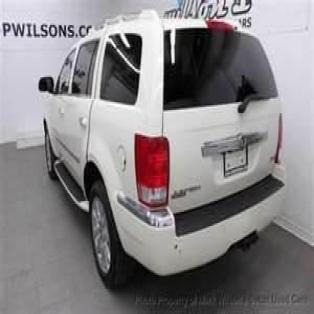Auto: (36, 8, 288, 297)
